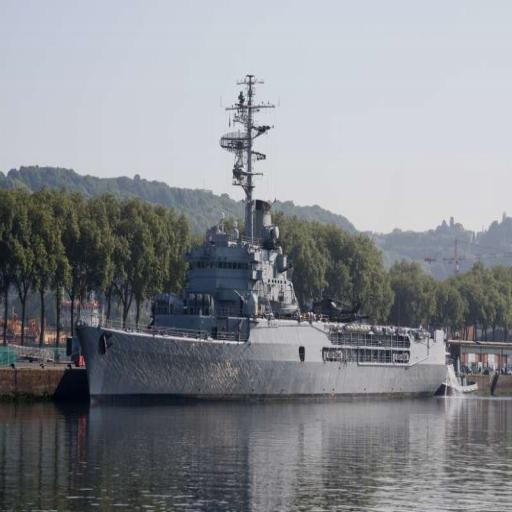Portanaves: (66, 70, 451, 413)
